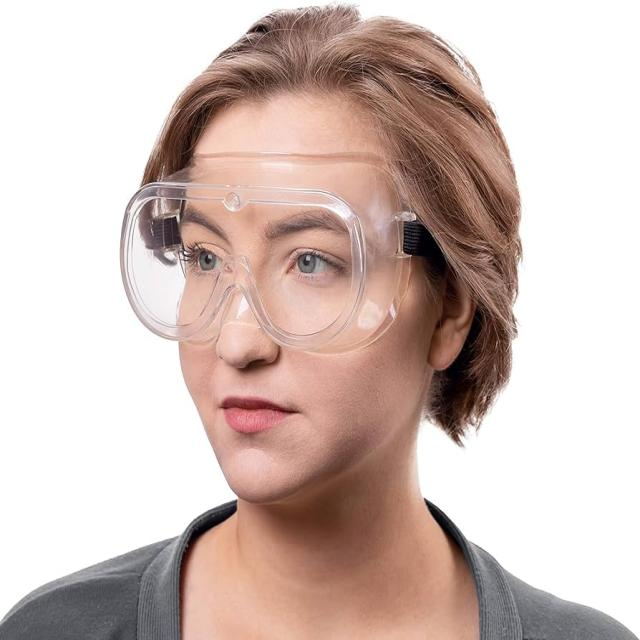goggles_on: (115, 148, 447, 359)
